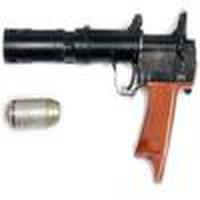gun: (1, 23, 193, 175)
